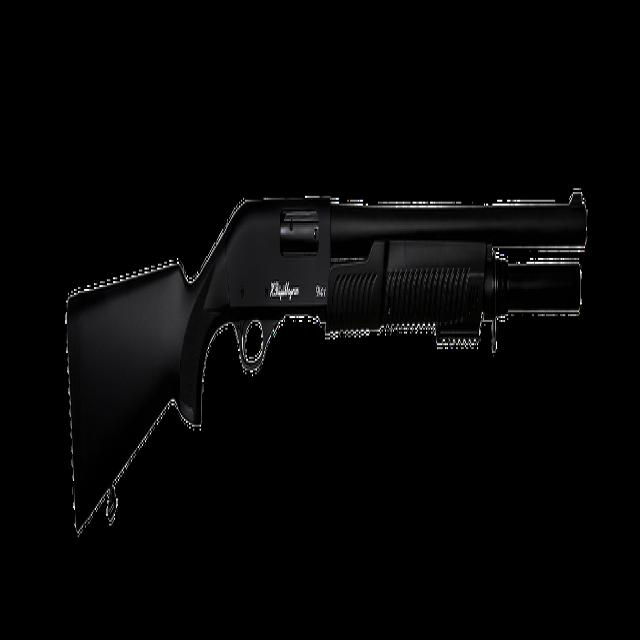Weapon: (66, 188, 586, 526)
